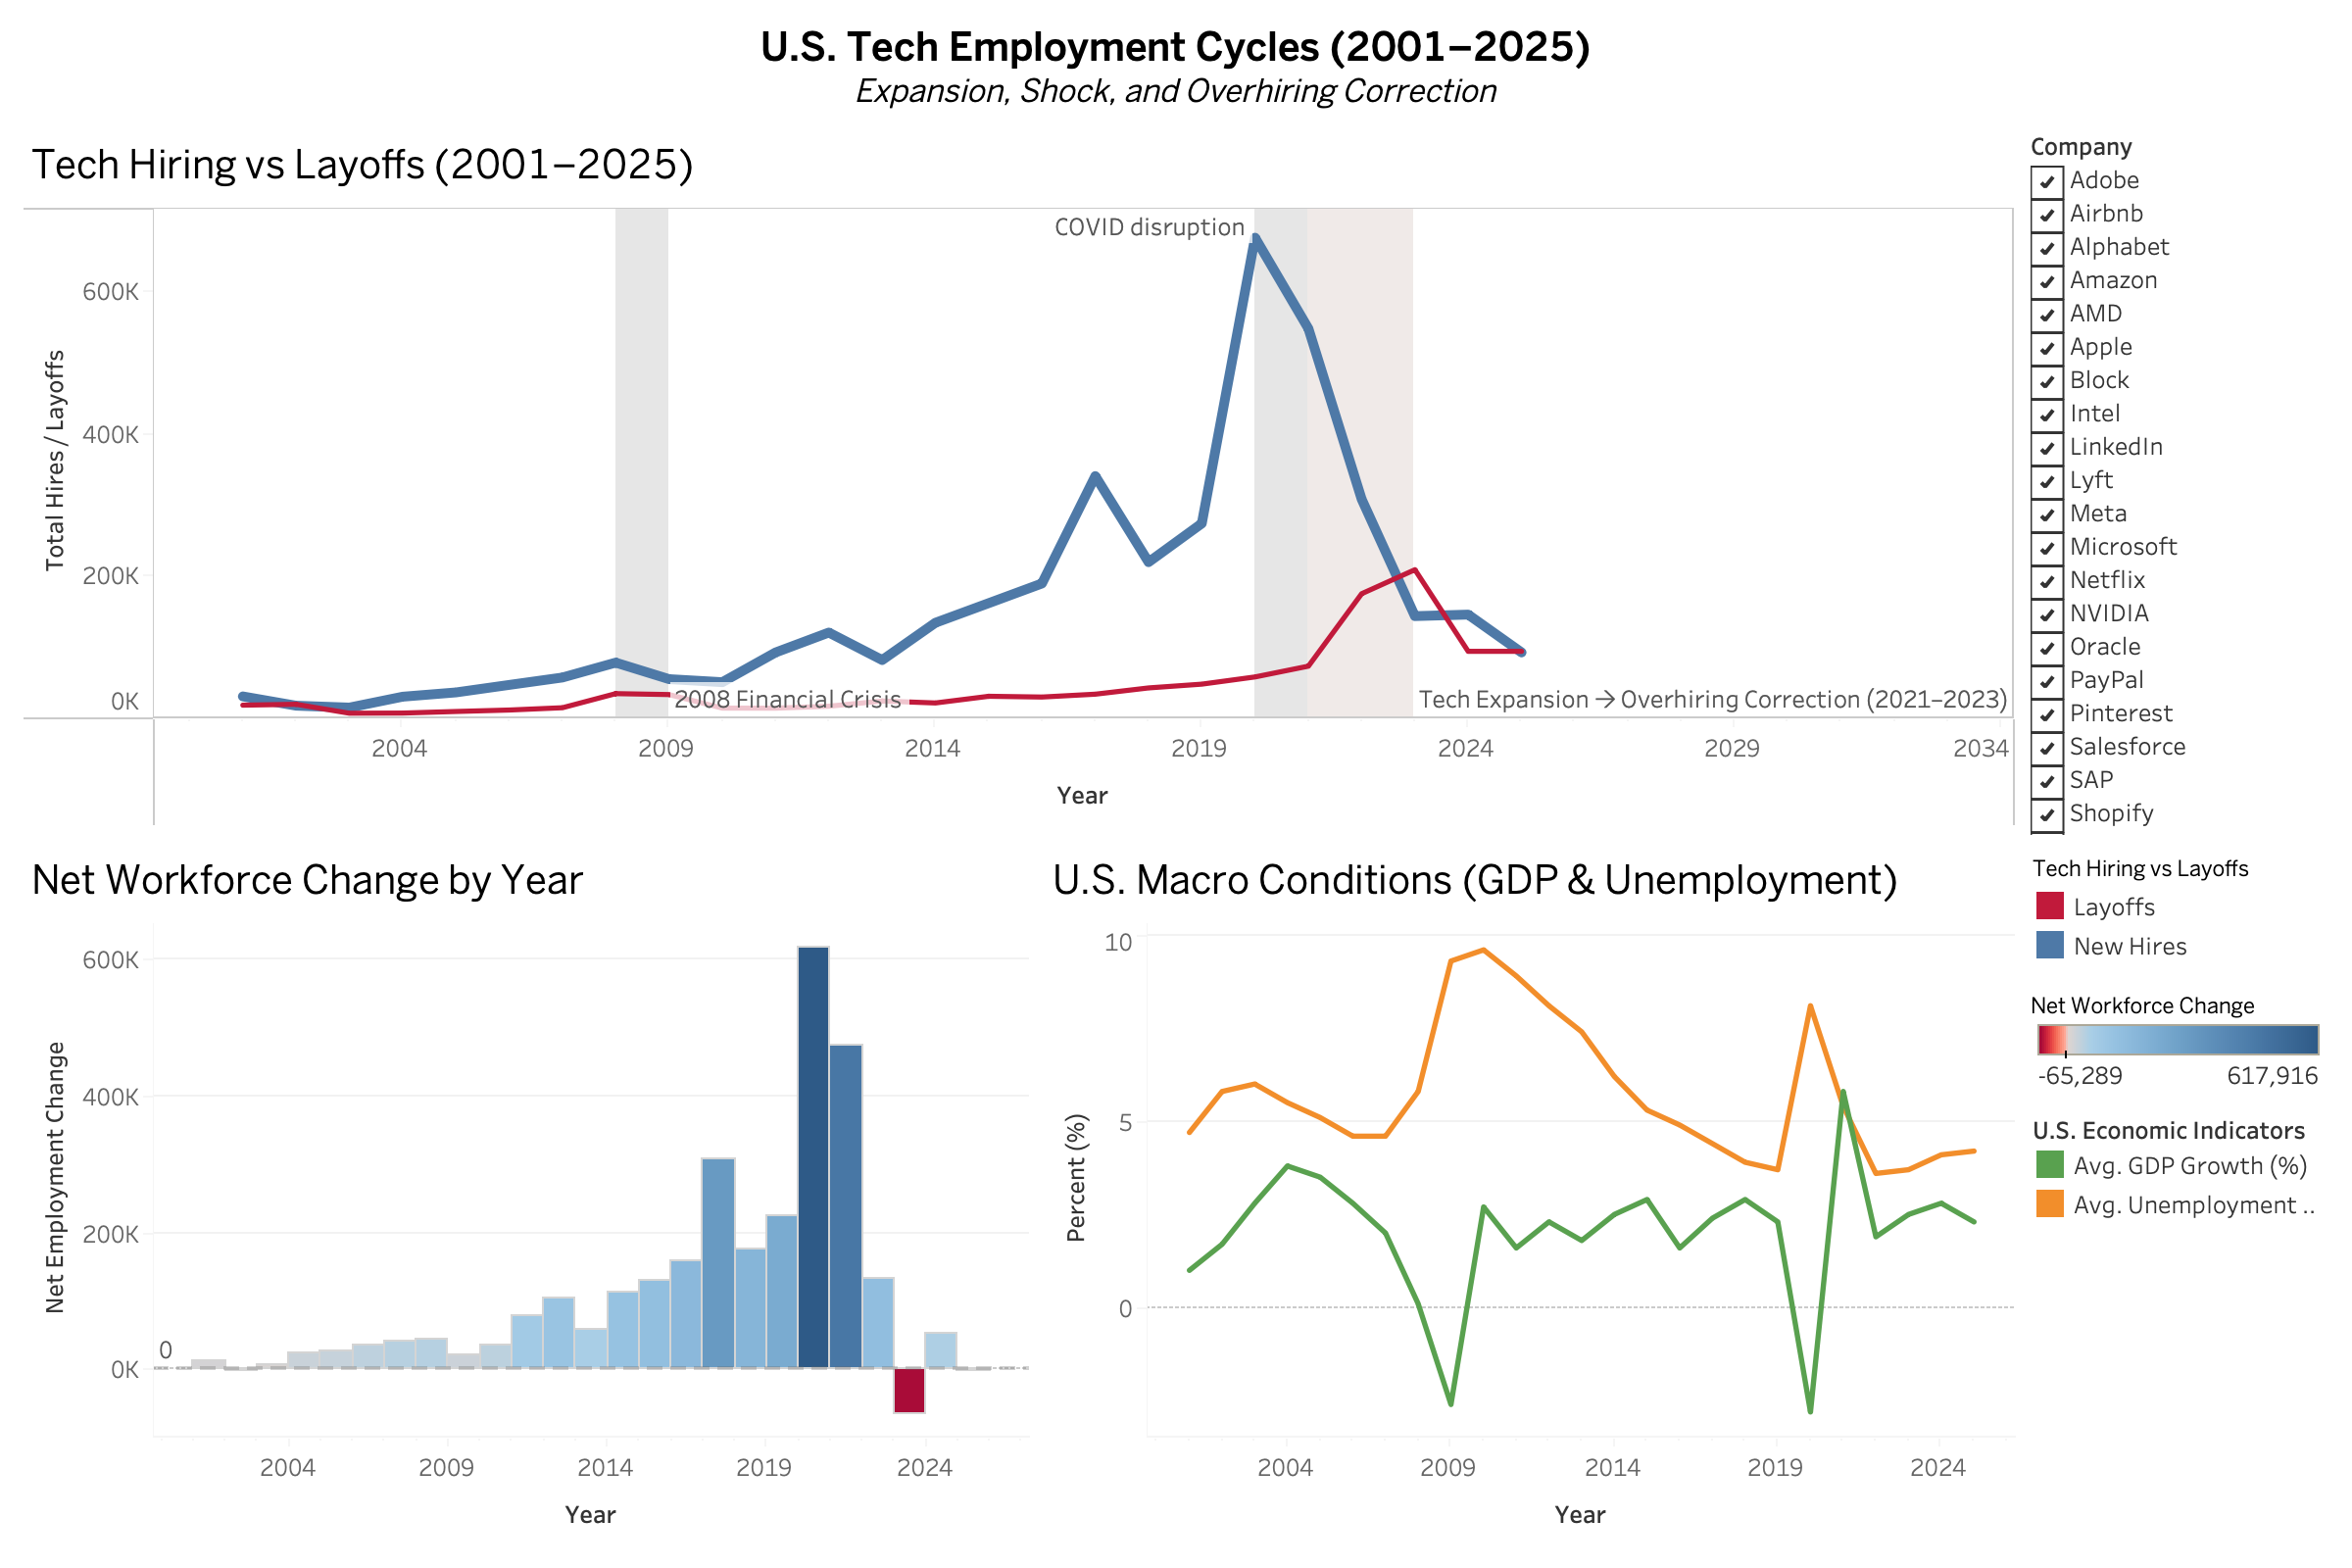

What the dashboard file says about the page in this screenshot:
{"tool":"tableau","page":{"name":"Dashboard 1","canvas":[1200,800],"ordinal":0},"visuals":[{"type":"title","box":[8,8,1184,53]},{"type":"worksheet","title":"Hiring vs Layoffs Trend","mark":"Automatic","rows":["new_hires","layoffs"],"cols":["year"],"box":[8,61,1024,365.5]},{"type":"filter","title":"Hiring vs Layoffs Trend","param":"[federated.1wuv2i813fdt7j17jwsku06pgak1].[none:company:nk]","box":[1032,61,160,369]},{"type":"worksheet","title":"Net Workforce Change","mark":"Bar","rows":["net_change"],"cols":["year"],"box":[8,426.5,521,365.5]},{"type":"worksheet","title":"Macro Conditions","mark":"Automatic","cols":["year"],"box":[529,426.5,503,365.5]},{"type":"legend","title":"Hiring vs Layoffs Trend","param":"[federated.1wuv2i813fdt7j17jwsku06pgak1].[:Measure Names]","box":[1032,430,160,66]},{"type":"legend","title":"Net Workforce Change","param":"[federated.1wuv2i813fdt7j17jwsku06pgak1].[sum:net_change:qk]","box":[1032,496,160,65]},{"type":"legend","title":"Macro Conditions","param":"[federated.1wuv2i813fdt7j17jwsku06pgak1].[:Measure Names]","box":[1032,561,160,66]}]}

Visuals, with their boxes in screenshot pixels (x1, y1, x2, y2), scaled from the page's 1200x800 canvas onto the 2352x1568 screenshot:
title: box=[16, 16, 2336, 120]
"Hiring vs Layoffs Trend" worksheet: box=[16, 120, 2023, 836]
"Hiring vs Layoffs Trend" filter: box=[2023, 120, 2336, 843]
"Net Workforce Change" worksheet (Bar marks): box=[16, 836, 1037, 1552]
"Macro Conditions" worksheet: box=[1037, 836, 2023, 1552]
"Hiring vs Layoffs Trend" legend: box=[2023, 843, 2336, 972]
"Net Workforce Change" legend: box=[2023, 972, 2336, 1100]
"Macro Conditions" legend: box=[2023, 1100, 2336, 1229]
